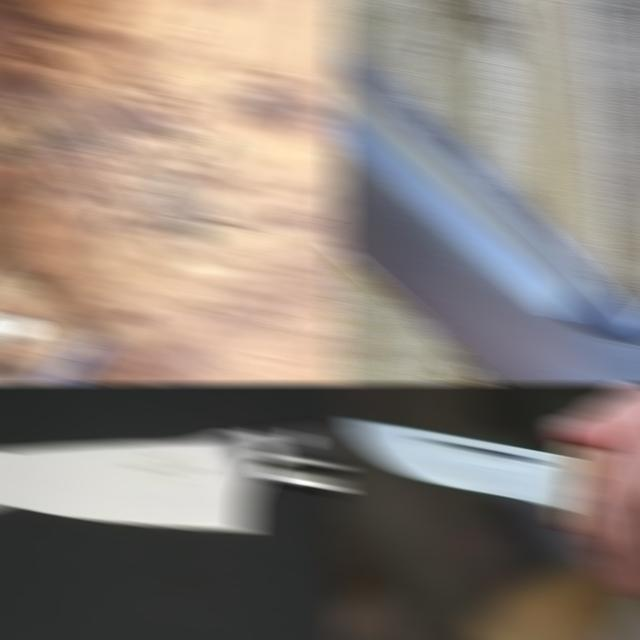Knife: (0, 416, 346, 531), (346, 419, 615, 534)
Knife_Handle: (336, 383, 640, 601)
